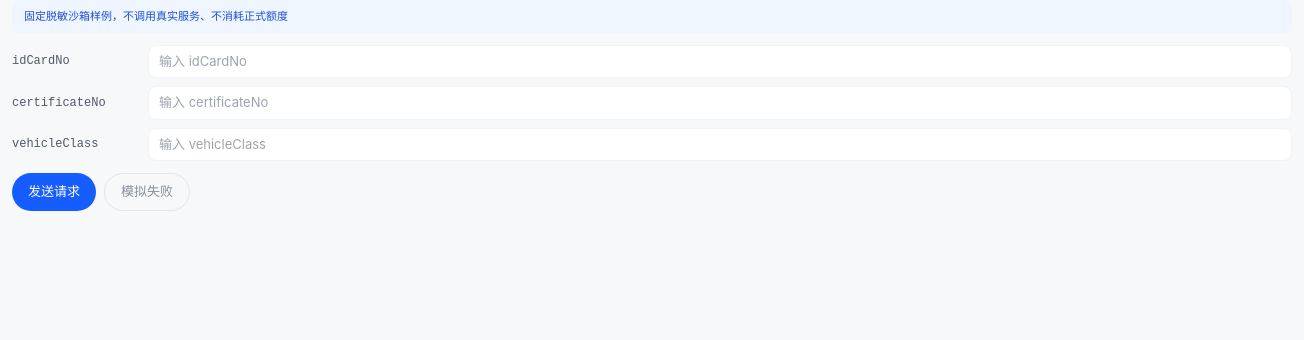
Test: ApiDetail sandbox › returns the fixed sandbox response without a real request
In the field with placeholder "输入 idCardNo": [720, 61] box [148,44,1292,78], type "110101199001010011"
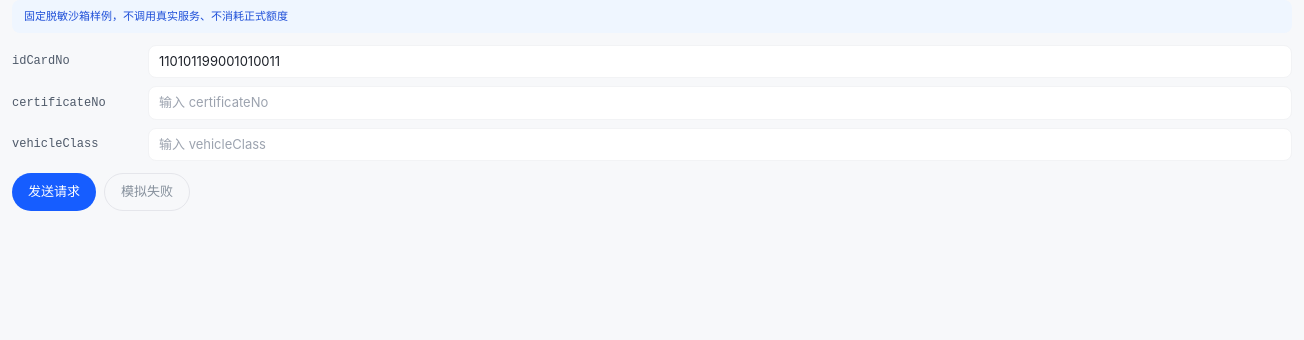
In the field with placeholder "输入 certificateNo": [720, 103] box [148,86,1292,120], type "CERT-A2-001"
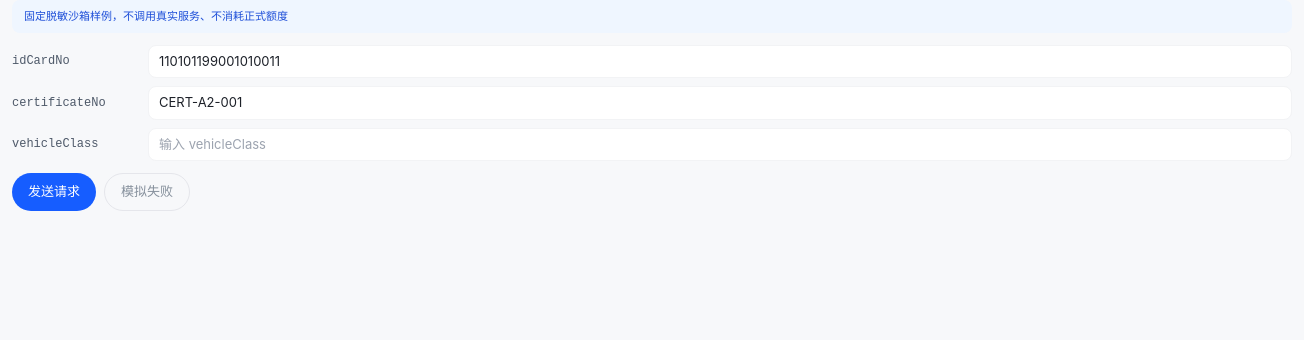
Click the button with test id "sandbox-send": [54, 192] box [12,173,96,210]
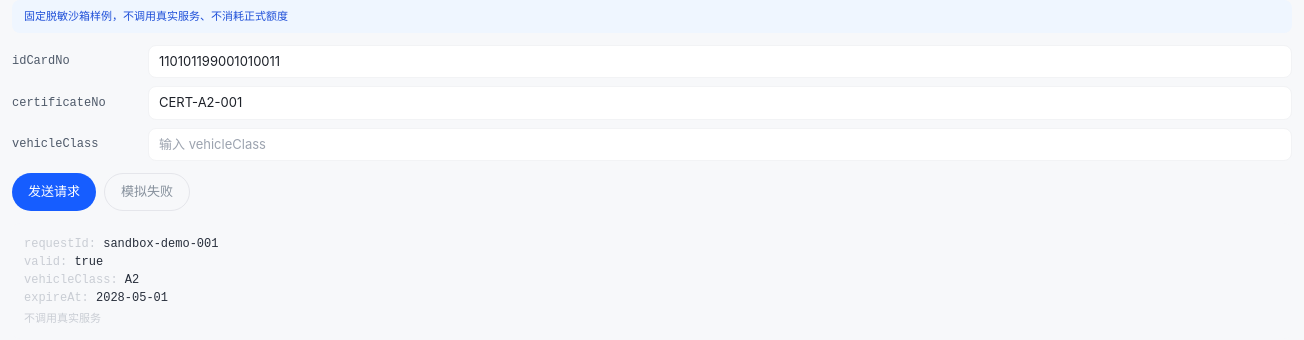
Expected: the text "不调用真实服务" is shown, [24,9,288,23]
Expected: the text "sandbox-demo-001" is shown, [96,236,218,250]
